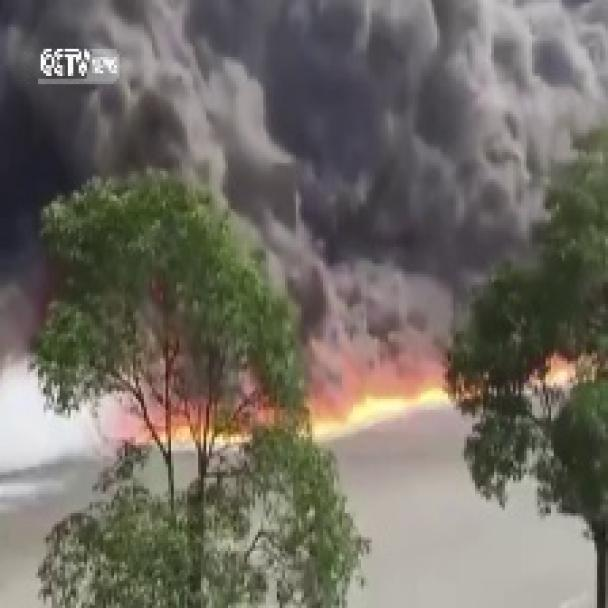smoke: (0, 1, 604, 524)
